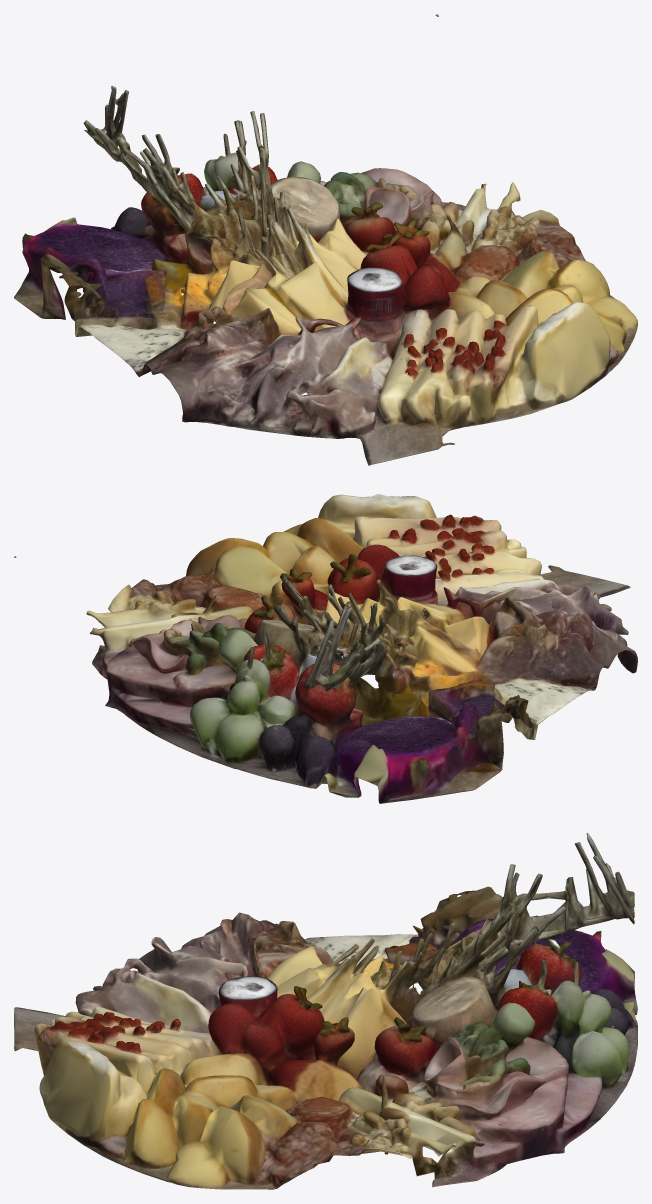
The model's file is tabua-frios-frutas-premium.glb.
3 renders of one model, top to bottom at view 1: azimuth 30°, elevation 25°; view 2: azimuth 150°, elevation 25°; view 3: azimuth 270°, elevation 25°, orthographic. The views are drawn at different scales.
Parts seen in each view (by area): view 1: world; view 2: world; view 3: world.
Boxes of the visible parts, x1,y1,x2,y2 form: world: (14,14,637,465); world: (14,494,637,803); world: (14,832,637,1189).
Bounding box in the file's own units: 0.3939 × 0.1468 × 0.45.
1 material, 1 textured.
